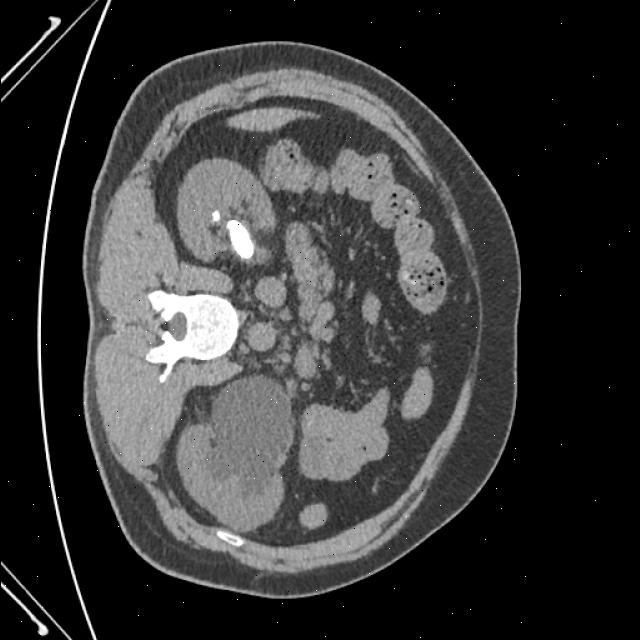kidneystone: (227, 220, 252, 259), (211, 210, 219, 221)
